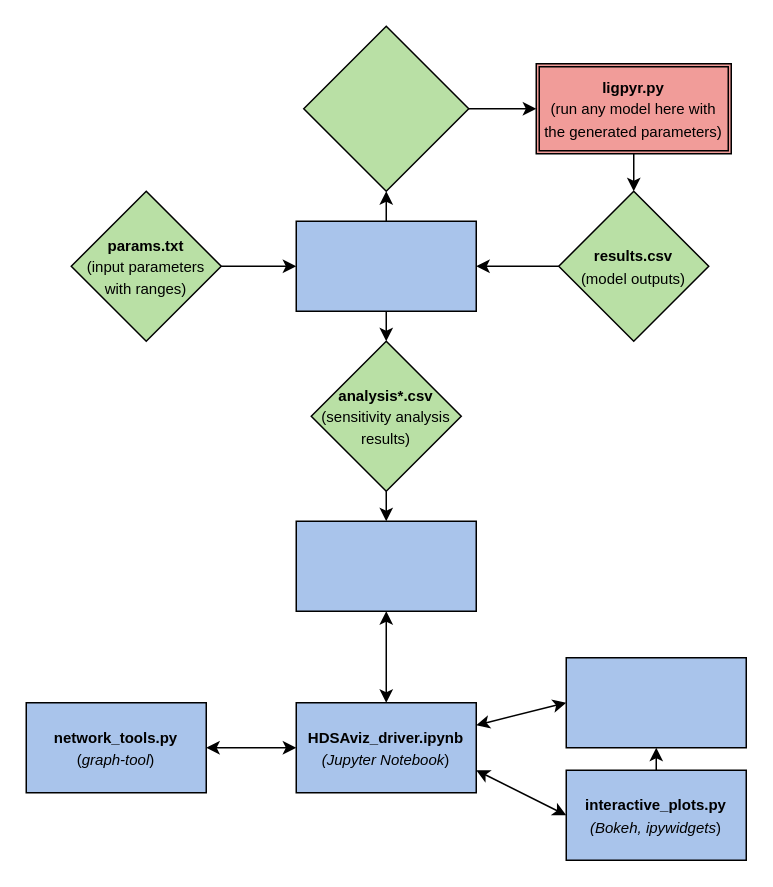
The diagram is 773 pixels wide and 887 high, and some of its shapes have lost their labels. Here are the shapes that lost their labels. From the top down, the centre of each, then its label:
At (x=385, y=108): "model_runs.sh (sets of parameters to run)".
At (x=385, y=265): "sensitivity_tools.py ( SALib wrapper)".
At (x=385, y=565): "data_processing.py (cleans results and creates dataframes)".
At (x=655, y=702): "plotting.py ( Bokeh )".
